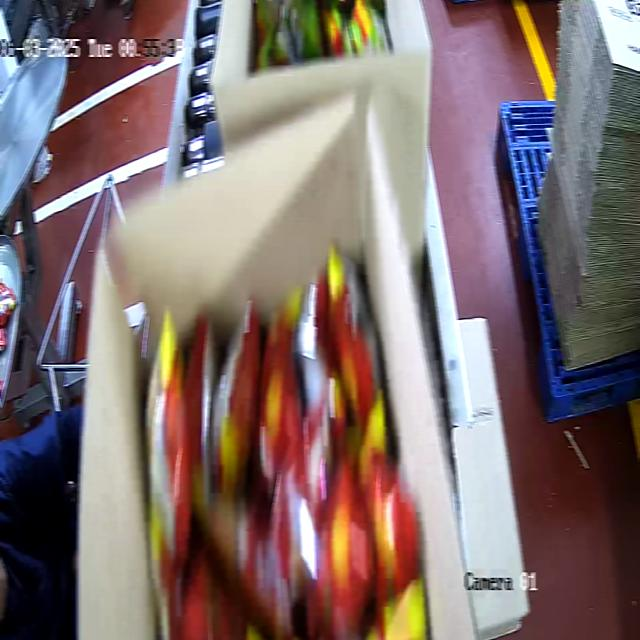MASALA: (144, 245, 421, 638)
